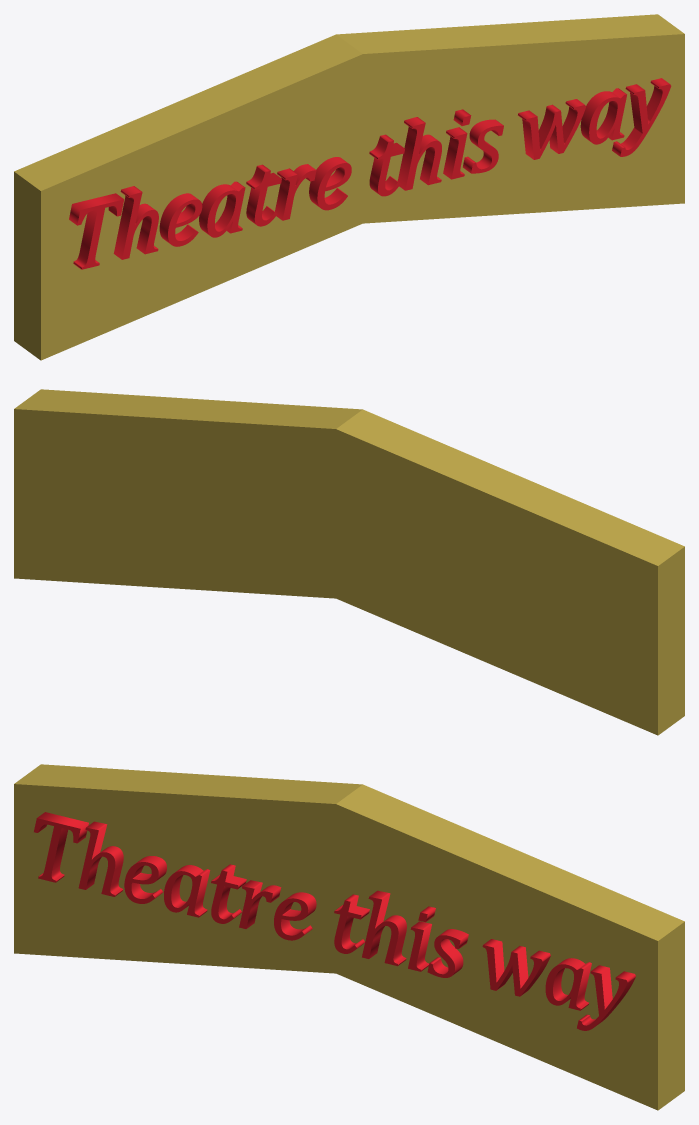
File: Sign.fbx
3 views of the same model, one above another, from view 1: azimuth 30°, elevation 25°; view 2: azimuth 150°, elevation 25°; view 3: azimuth 330°, elevation 25° (orthographic).
Parts seen in each view (by area): view 1: Text; view 2: Text; view 3: Text.
Boxes of the visible parts, x1,y1,x2,y2 form: Text: [14, 14, 684, 360]; Text: [14, 389, 684, 735]; Text: [14, 764, 684, 1110].
Bounding box in the file's own units: 795 × 269 × 75.36.
